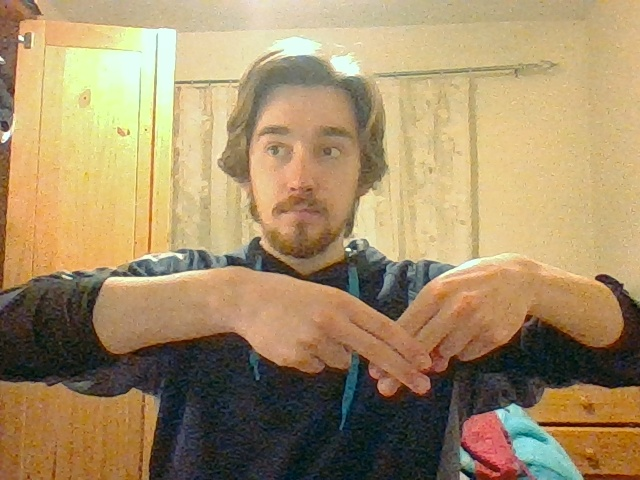father: (345, 301, 459, 399)
